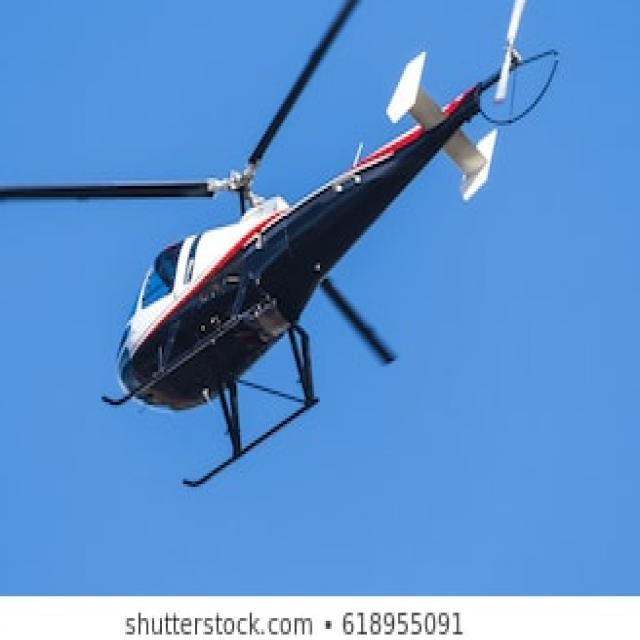helicopter: (1, 1, 536, 488)
